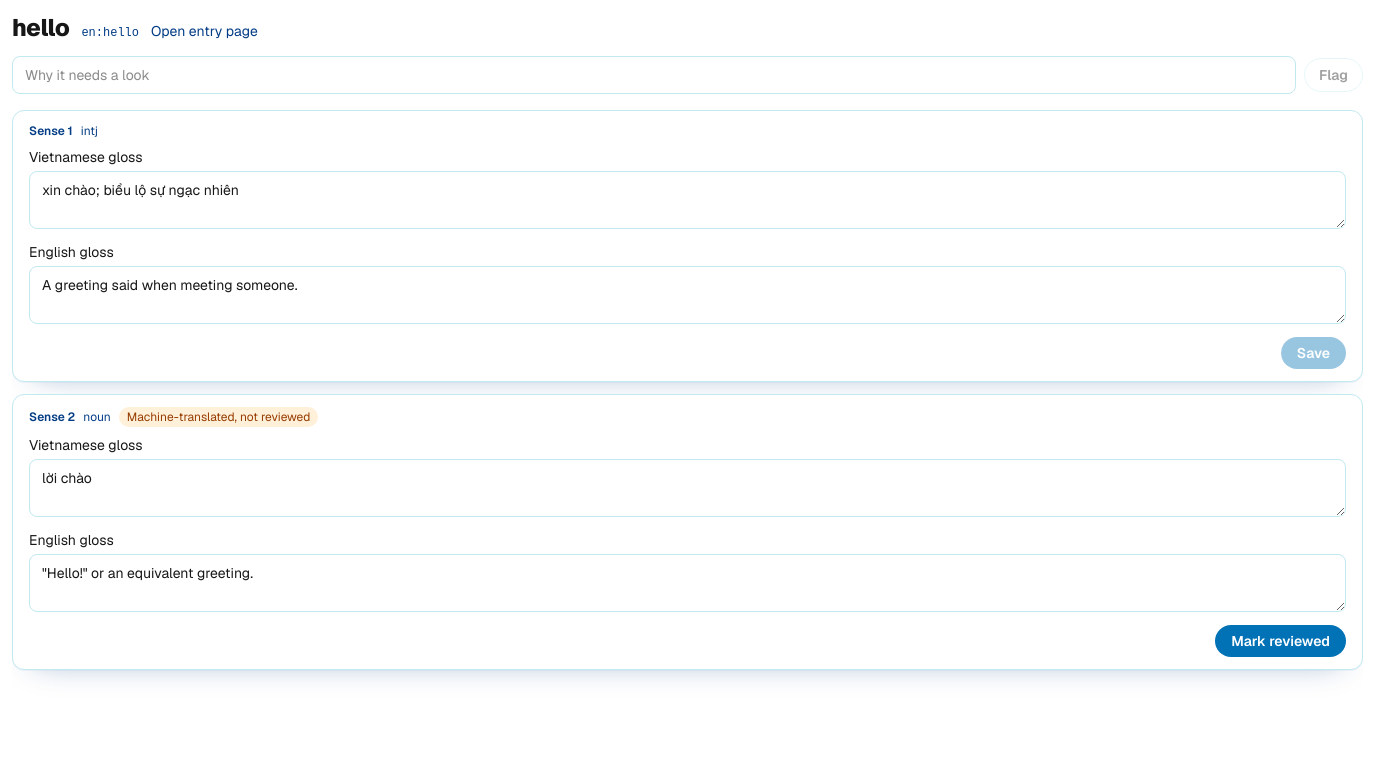
Test: EntryEditor › shows a refusal from the server
The width and height of the screenshot is (1378, 780).
Step 1. Type "!" into the text box labelled "Vietnamese gloss" below "intj" → point(688, 200), box left=29, top=171, right=1346, bottom=229
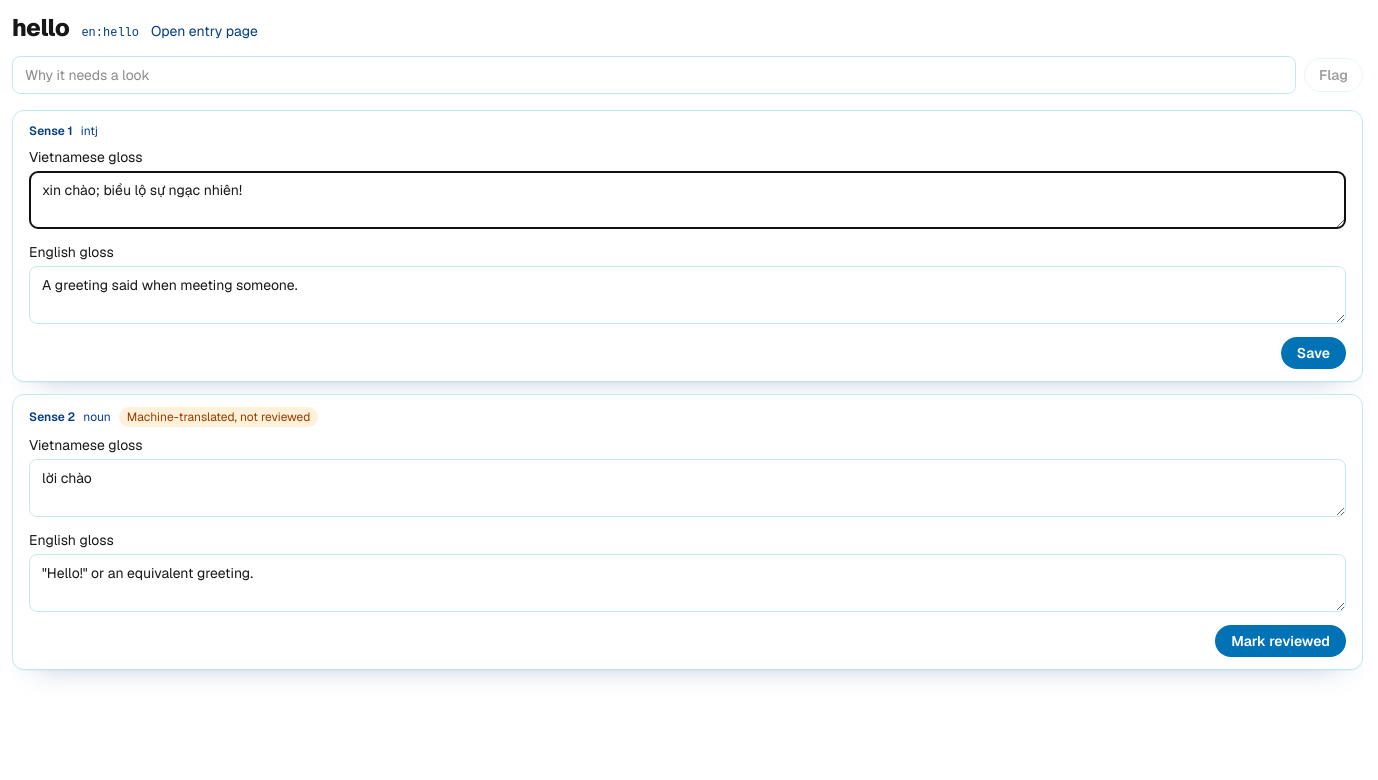
Step 2. Click the button "Save" → point(1313, 353), box left=1281, top=337, right=1346, bottom=369
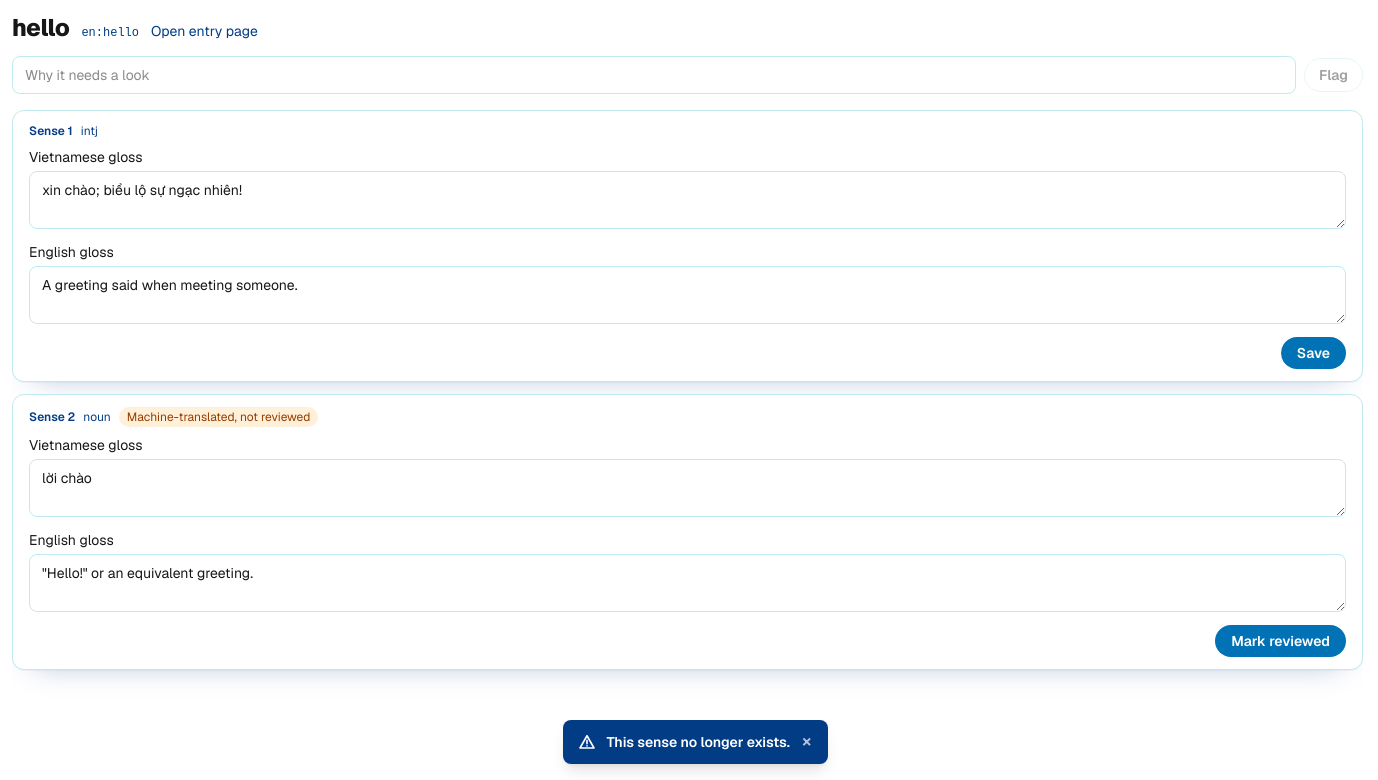
Now the text "This sense no longer exists." is shown, box left=606, top=732, right=790, bottom=752
